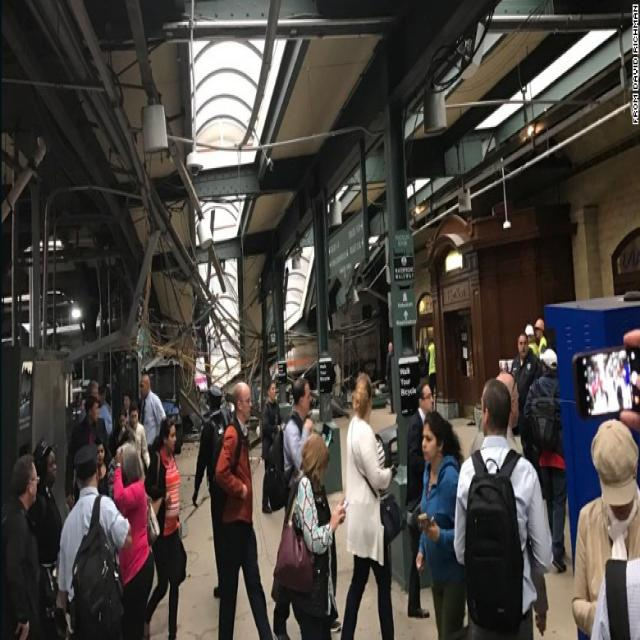body: (452, 377, 552, 640), (464, 366, 549, 638), (334, 370, 404, 638), (213, 377, 279, 639), (52, 438, 134, 638), (282, 376, 342, 637), (570, 415, 639, 639), (286, 431, 350, 640), (414, 409, 467, 640), (520, 348, 571, 574), (139, 414, 187, 638), (191, 383, 236, 599), (0, 447, 50, 639), (112, 441, 155, 640), (404, 383, 435, 619), (570, 320, 639, 424), (31, 435, 63, 621), (65, 393, 108, 510), (587, 551, 639, 638), (260, 380, 286, 516), (510, 330, 543, 436), (120, 400, 152, 484), (136, 371, 168, 452), (77, 377, 114, 437), (424, 336, 438, 417), (522, 314, 547, 358), (95, 438, 113, 498), (117, 390, 133, 434), (386, 341, 394, 414), (193, 380, 204, 429)
